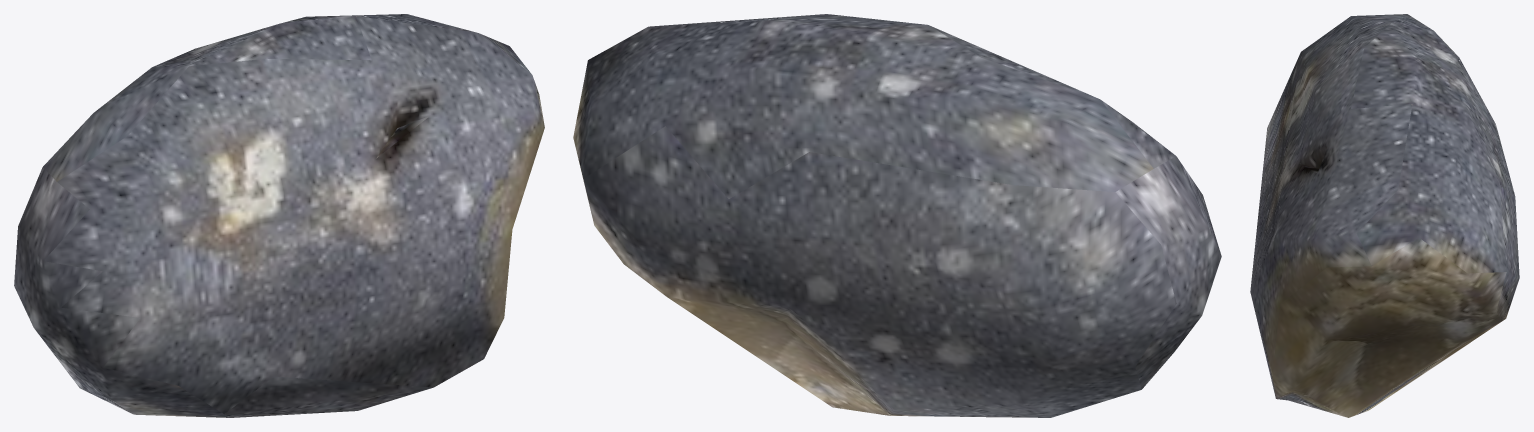
The picture shows the model from 3 angles, left to right: view 1: azimuth 30°, elevation 25°; view 2: azimuth 150°, elevation 25°; view 3: azimuth 270°, elevation 25°; orthographic projection. The views are drawn at different scales.
Visible parts, largest first — view 1: rock031_lod4; view 2: rock031_lod4; view 3: rock031_lod4.
Boxes of the visible parts, box(x1,y1,x2,y2) form: rock031_lod4: box(14, 14, 544, 417); rock031_lod4: box(573, 14, 1221, 417); rock031_lod4: box(1250, 14, 1519, 417).
Bounding box in the file's own units: 1 × 0.6753 × 0.4998.
Materials: 1 (1 with a texture image).
